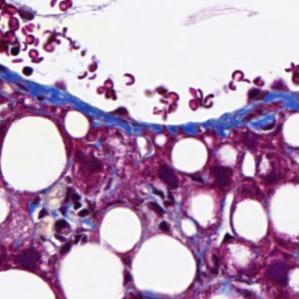inflammation: (34, 185, 95, 243), (144, 181, 183, 235)
